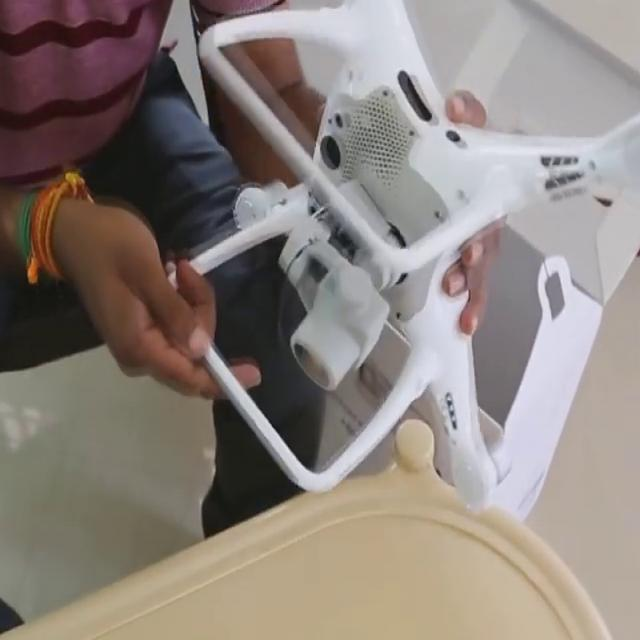drone: (186, 0, 640, 532)
